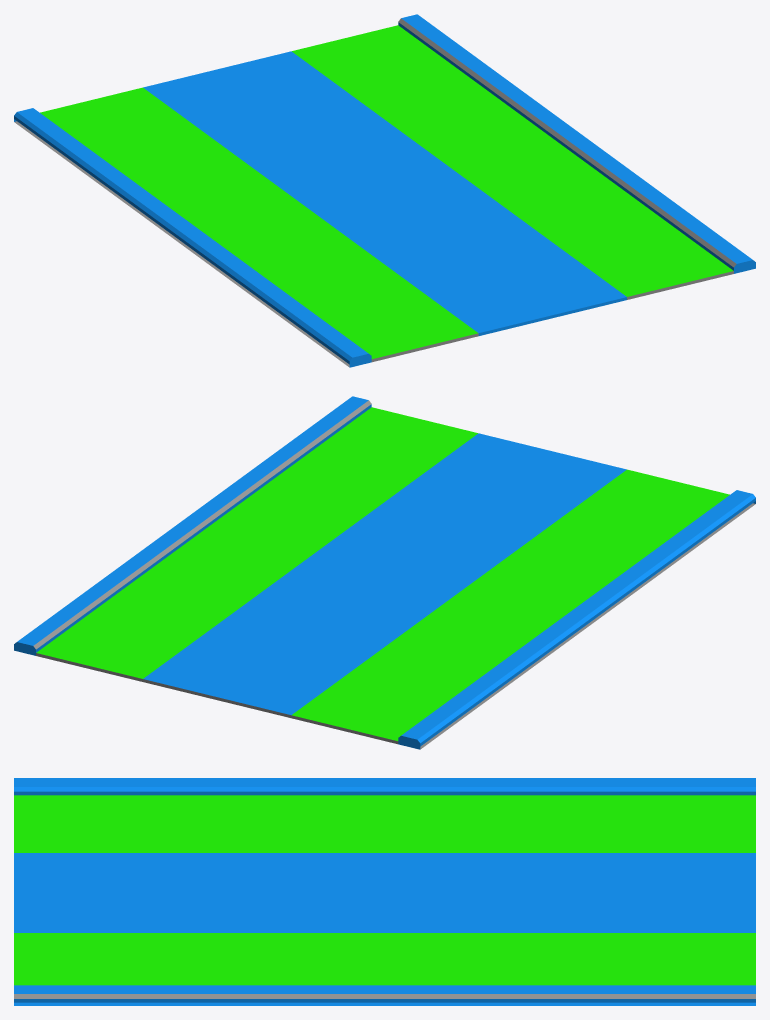
The model's file is asd.FBX.
3 renders of one model, top to bottom at view 1: azimuth 30°, elevation 25°; view 2: azimuth 150°, elevation 25°; view 3: azimuth 270°, elevation 25°, orthographic. The views are drawn at different scales.
Visible parts, largest first — view 1: Plane002; view 2: Plane002; view 3: Plane002.
Part boxes in pixels (x1,y1,x2,y2): Plane002: [14, 14, 755, 367]; Plane002: [14, 396, 755, 749]; Plane002: [14, 778, 755, 1005].
Size of the model in its own units: 0.1904 by 0.00419 by 0.2726.
